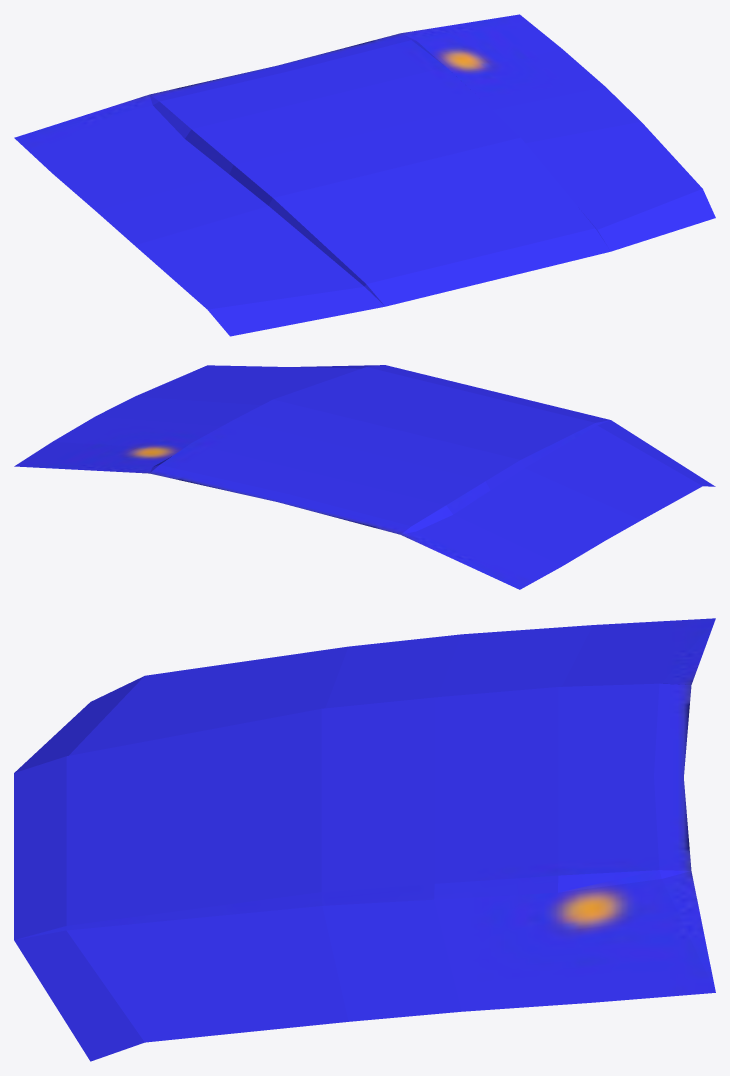
Rendered from hood1.obj.
3 renders of one model, top to bottom at view 1: azimuth 30°, elevation 25°; view 2: azimuth 150°, elevation 25°; view 3: azimuth 270°, elevation 25°, orthographic. The views are drawn at different scales.
Visible parts, largest first — view 1: hood; view 2: hood; view 3: hood.
Boxes of the visible parts, x1,y1,x2,y2 form: hood: [14, 14, 715, 336]; hood: [14, 365, 715, 589]; hood: [14, 618, 715, 1061].
Bounding box in the file's own units: 1.09 × 0.1427 × 0.8586.
